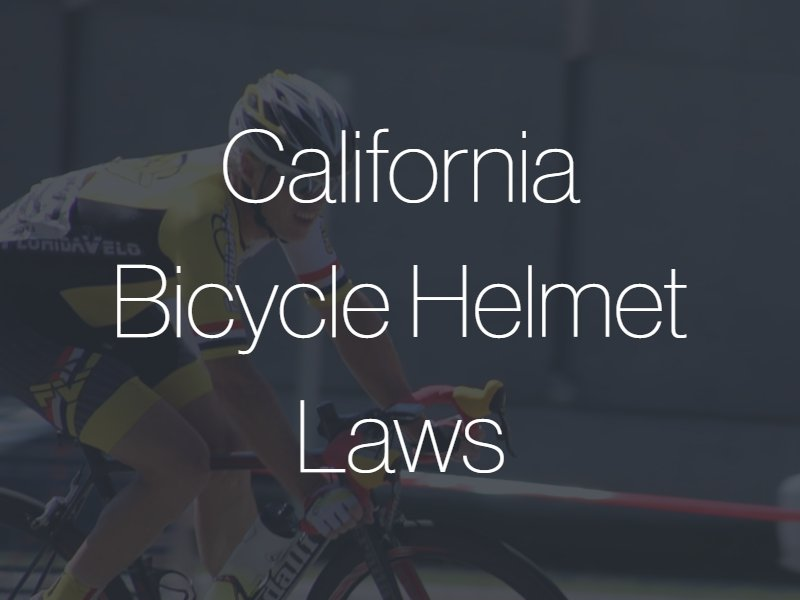helmet: (228, 68, 357, 243)
